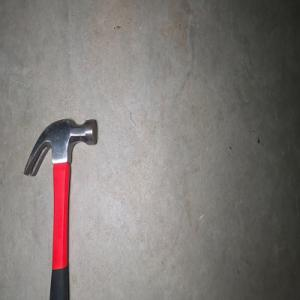Hammer: (22, 117, 97, 300)
